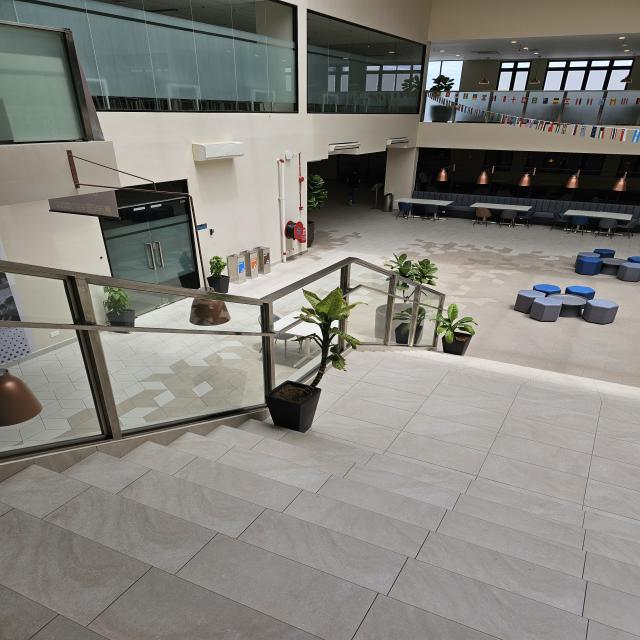footpath: (2, 431, 634, 638), (382, 355, 625, 430)
obstacle: (262, 376, 324, 433)
